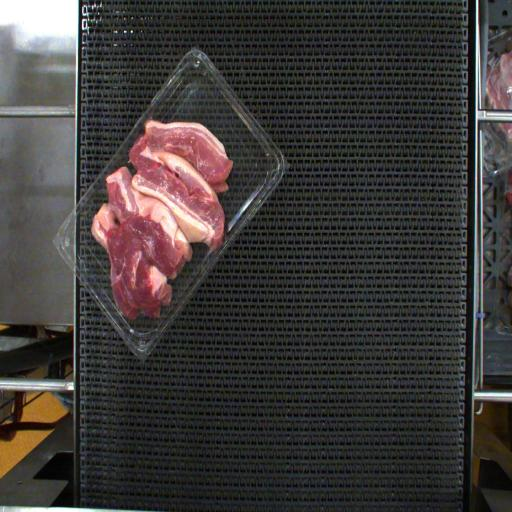packaging-error: (138, 105, 158, 128)
